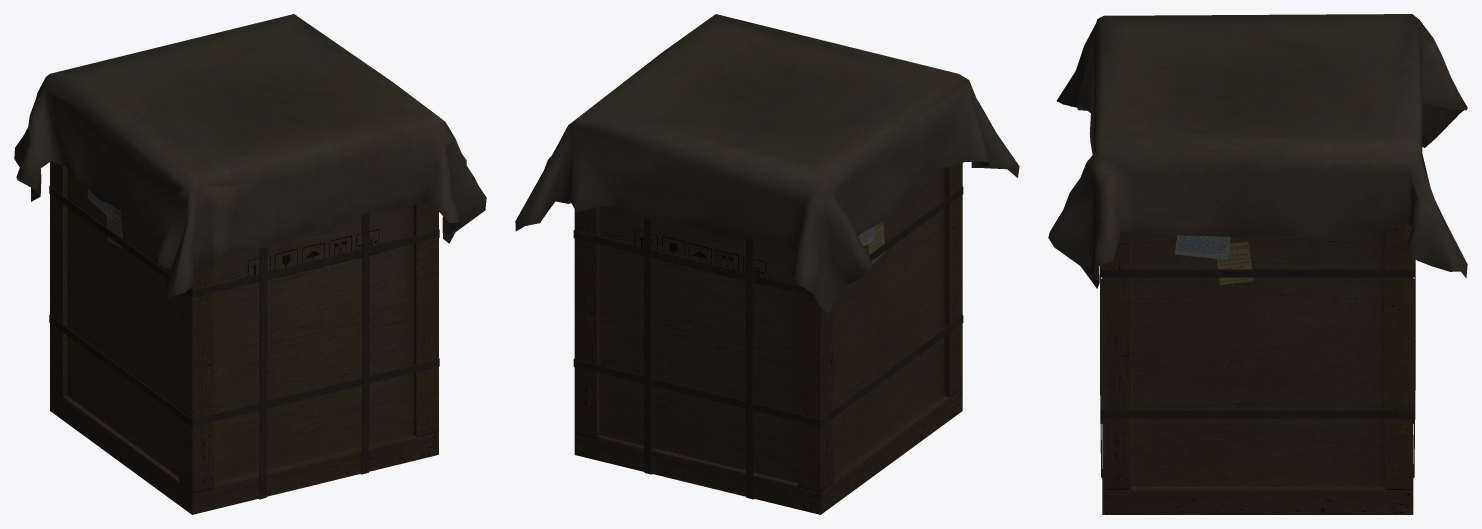
Rendered from wooden_crate_hx_1_2.obj.
3 views of the same model, side by side, from view 1: azimuth 30°, elevation 25°; view 2: azimuth 150°, elevation 25°; view 3: azimuth 270°, elevation 25° (orthographic). The views are drawn at different scales.
Parts seen in each view (by area): view 1: wooden_crate_hx_1_2; view 2: wooden_crate_hx_1_2; view 3: wooden_crate_hx_1_2.
Boxes of the visible parts, x1,y1,x2,y2 form: wooden_crate_hx_1_2: (14,14,486,514); wooden_crate_hx_1_2: (515,14,1019,514); wooden_crate_hx_1_2: (1048,14,1467,514).
Size of the model in its own units: 1.89 by 1.84 by 1.89.
